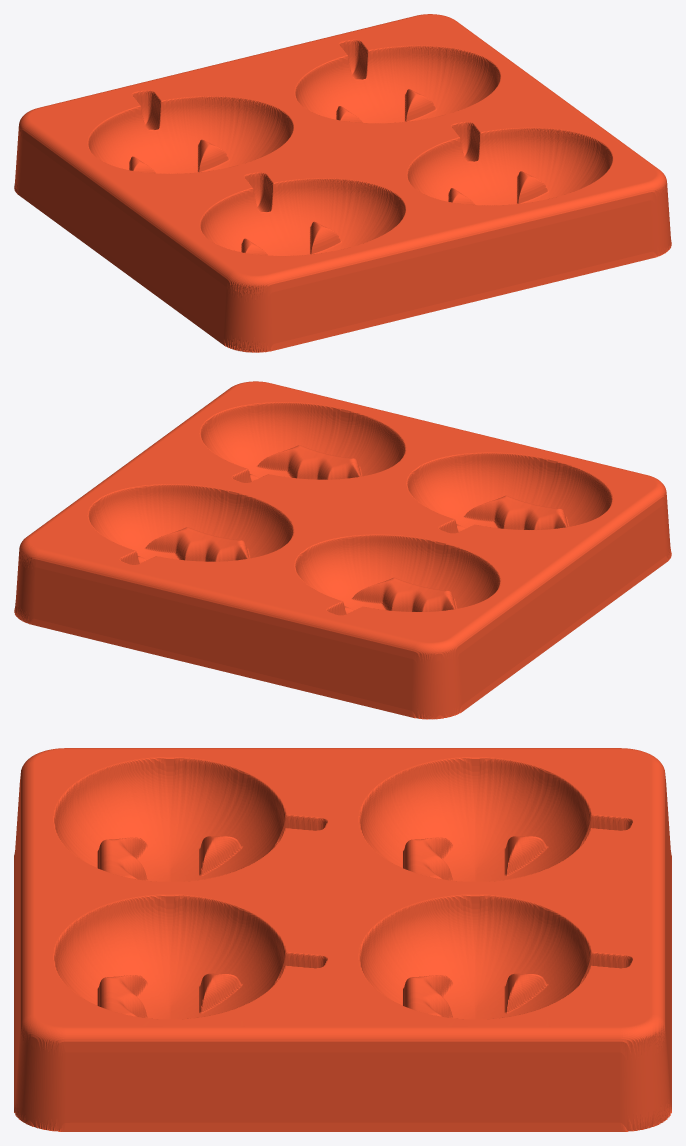
Rendered from mold.glb.
3 views of the same model, one above another, from view 1: azimuth 30°, elevation 25°; view 2: azimuth 150°, elevation 25°; view 3: azimuth 270°, elevation 25° (orthographic). The views are drawn at different scales.
Visible parts, largest first — view 1: geometry_0; view 2: geometry_0; view 3: geometry_0.
Part boxes in pixels (x1,y1,x2,y2): geometry_0: (14,14,671,352); geometry_0: (14,381,671,719); geometry_0: (14,748,671,1131).
Size of the model in its own units: 0.1218 by 0.0185 by 0.1148.
